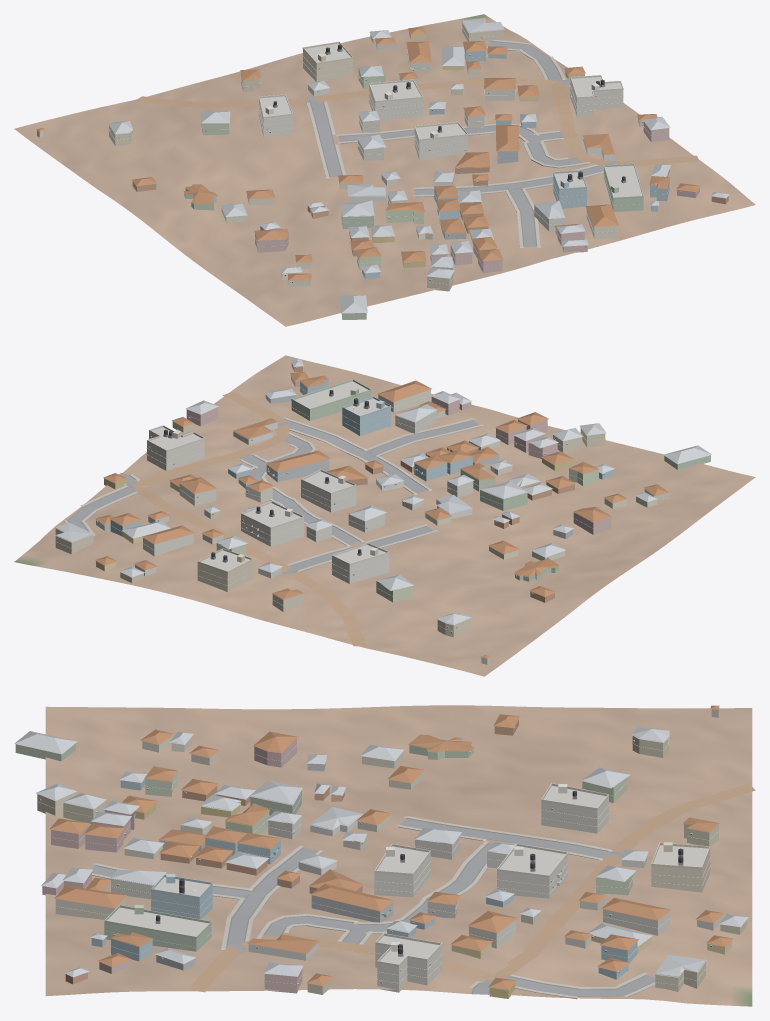
The picture shows the model from 3 angles, top to bottom: view 1: azimuth 30°, elevation 25°; view 2: azimuth 150°, elevation 25°; view 3: azimuth 270°, elevation 25°; orthographic projection. The views are drawn at different scales.
Visible parts, largest first — view 1: Terrain-col, Buildings-col, Roads-col, Details, Sidewalks-col; view 2: Terrain-col, Buildings-col, Roads-col, Details, Sidewalks-col; view 3: Terrain-col, Buildings-col, Roads-col, Details, Sidewalks-col.
Part boxes in pixels (<box>): Terrain-col: <box>14,14,755,326</box>; Buildings-col: <box>36,18,729,319</box>; Roads-col: <box>135,41,699,246</box>; Details: <box>109,27,681,315</box>; Sidewalks-col: <box>306,40,603,247</box>; Terrain-col: <box>14,355,755,676</box>; Buildings-col: <box>55,359,711,664</box>; Roads-col: <box>67,391,479,646</box>; Details: <box>55,367,611,632</box>; Sidewalks-col: <box>64,417,483,571</box>; Terrain-col: <box>45,705,752,1006</box>; Buildings-col: <box>14,705,748,998</box>; Roads-col: <box>90,783,755,996</box>; Details: <box>37,727,718,992</box>; Sidewalks-col: <box>92,816,655,999</box>.
Size of the model in its own units: 260 by 21.14 by 269.
